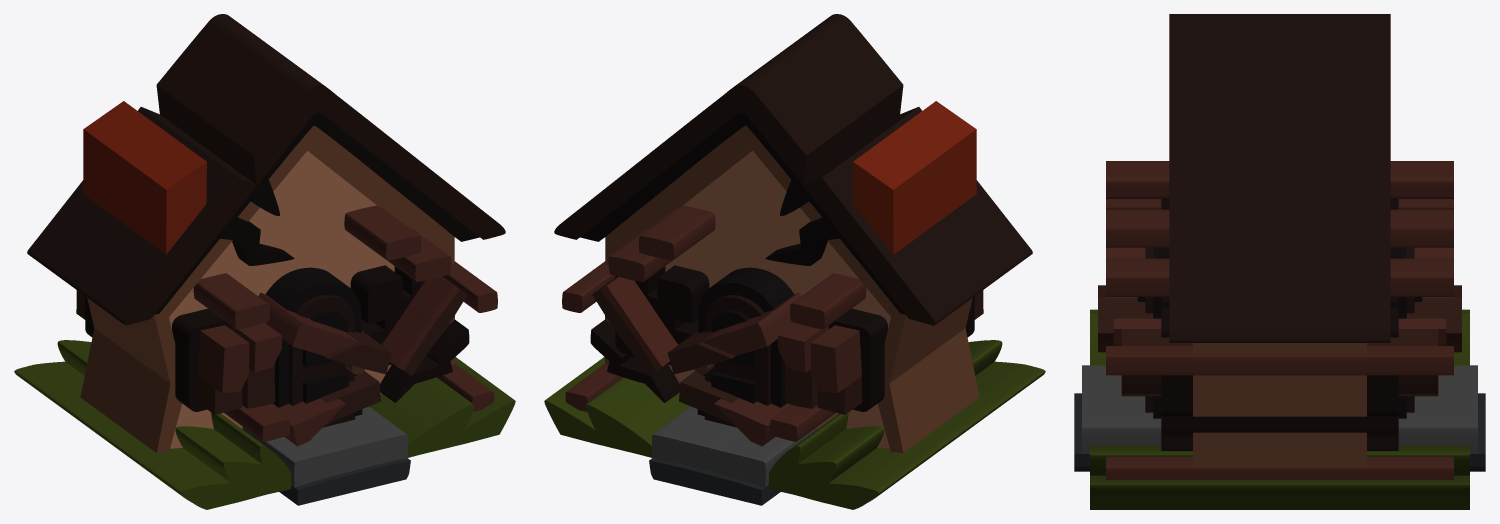
The picture shows the model from 3 angles, left to right: view 1: azimuth 30°, elevation 25°; view 2: azimuth 150°, elevation 25°; view 3: azimuth 270°, elevation 25°; orthographic projection. The views are drawn at different scales.
Visible parts, largest first — view 1: U+1F3DA_layer04_obj00, U+1F3DA_layer01_obj00, U+1F3DA_layer14_obj01, U+1F3DA_layer00_obj00, U+1F3DA_layer02_obj00, U+1F3DA_layer14_obj00, U+1F3DA_layer15_obj00, U+1F3DA_layer03_obj00, U+1F3DA_layer05_obj01, U+1F3DA_layer06_obj00, U+1F3DA_layer11_obj00, U+1F3DA_layer05_obj00 (+22 smaller); view 2: U+1F3DA_layer04_obj00, U+1F3DA_layer01_obj00, U+1F3DA_layer14_obj01, U+1F3DA_layer00_obj00, U+1F3DA_layer02_obj00, U+1F3DA_layer14_obj00, U+1F3DA_layer15_obj00, U+1F3DA_layer03_obj00, U+1F3DA_layer05_obj01, U+1F3DA_layer06_obj00, U+1F3DA_layer11_obj00, U+1F3DA_layer05_obj00 (+22 smaller); view 3: U+1F3DA_layer04_obj00, U+1F3DA_layer01_obj00, U+1F3DA_layer14_obj00, U+1F3DA_layer15_obj00, U+1F3DA_layer12_obj02, U+1F3DA_layer12_obj06, U+1F3DA_layer05_obj02, U+1F3DA_layer12_obj05, U+1F3DA_layer12_obj08, U+1F3DA_layer12_obj04, U+1F3DA_layer05_obj01, U+1F3DA_layer13_obj00 (+8 smaller).
Part boxes in pixels (<box>): U+1F3DA_layer04_obj00: <box>27,14,505,325</box>; U+1F3DA_layer01_obj00: <box>80,125,454,452</box>; U+1F3DA_layer14_obj01: <box>14,340,291,509</box>; U+1F3DA_layer00_obj00: <box>169,151,394,448</box>; U+1F3DA_layer02_obj00: <box>83,101,206,254</box>; U+1F3DA_layer14_obj00: <box>369,357,515,457</box>; U+1F3DA_layer15_obj00: <box>242,406,408,487</box>; U+1F3DA_layer03_obj00: <box>154,112,479,314</box>; U+1F3DA_layer05_obj01: <box>350,265,444,365</box>; U+1F3DA_layer06_obj00: <box>265,267,362,415</box>; U+1F3DA_layer11_obj00: <box>382,277,459,370</box>; U+1F3DA_layer05_obj00: <box>85,296,231,411</box>; U+1F3DA_layer04_obj00: <box>554,14,1032,325</box>; U+1F3DA_layer01_obj00: <box>605,125,979,452</box>; U+1F3DA_layer14_obj01: <box>768,340,1045,509</box>; U+1F3DA_layer00_obj00: <box>665,151,890,448</box>; U+1F3DA_layer02_obj00: <box>853,101,976,254</box>; U+1F3DA_layer14_obj00: <box>544,357,690,457</box>; U+1F3DA_layer15_obj00: <box>651,406,817,487</box>; U+1F3DA_layer03_obj00: <box>580,112,905,314</box>; U+1F3DA_layer05_obj01: <box>615,265,709,365</box>; U+1F3DA_layer06_obj00: <box>697,267,794,415</box>; U+1F3DA_layer11_obj00: <box>600,277,677,370</box>; U+1F3DA_layer05_obj00: <box>828,296,974,411</box>; U+1F3DA_layer04_obj00: <box>1169,14,1390,342</box>; U+1F3DA_layer01_obj00: <box>1193,343,1366,467</box>; U+1F3DA_layer14_obj00: <box>1090,445,1469,509</box>; U+1F3DA_layer15_obj00: <box>1082,365,1477,453</box>; U+1F3DA_layer12_obj02: <box>1106,346,1453,375</box>; U+1F3DA_layer12_obj06: <box>1106,456,1453,479</box>; U+1F3DA_layer05_obj02: <box>1161,416,1398,450</box>; U+1F3DA_layer12_obj05: <box>1106,258,1453,296</box>; U+1F3DA_layer12_obj08: <box>1106,209,1453,247</box>; U+1F3DA_layer12_obj04: <box>1106,161,1453,198</box>; U+1F3DA_layer05_obj01: <box>1161,297,1398,416</box>; U+1F3DA_layer13_obj00: <box>1098,285,1461,352</box>.
Size of the model in its own units: 0.3179 by 0.2988 by 0.26.
